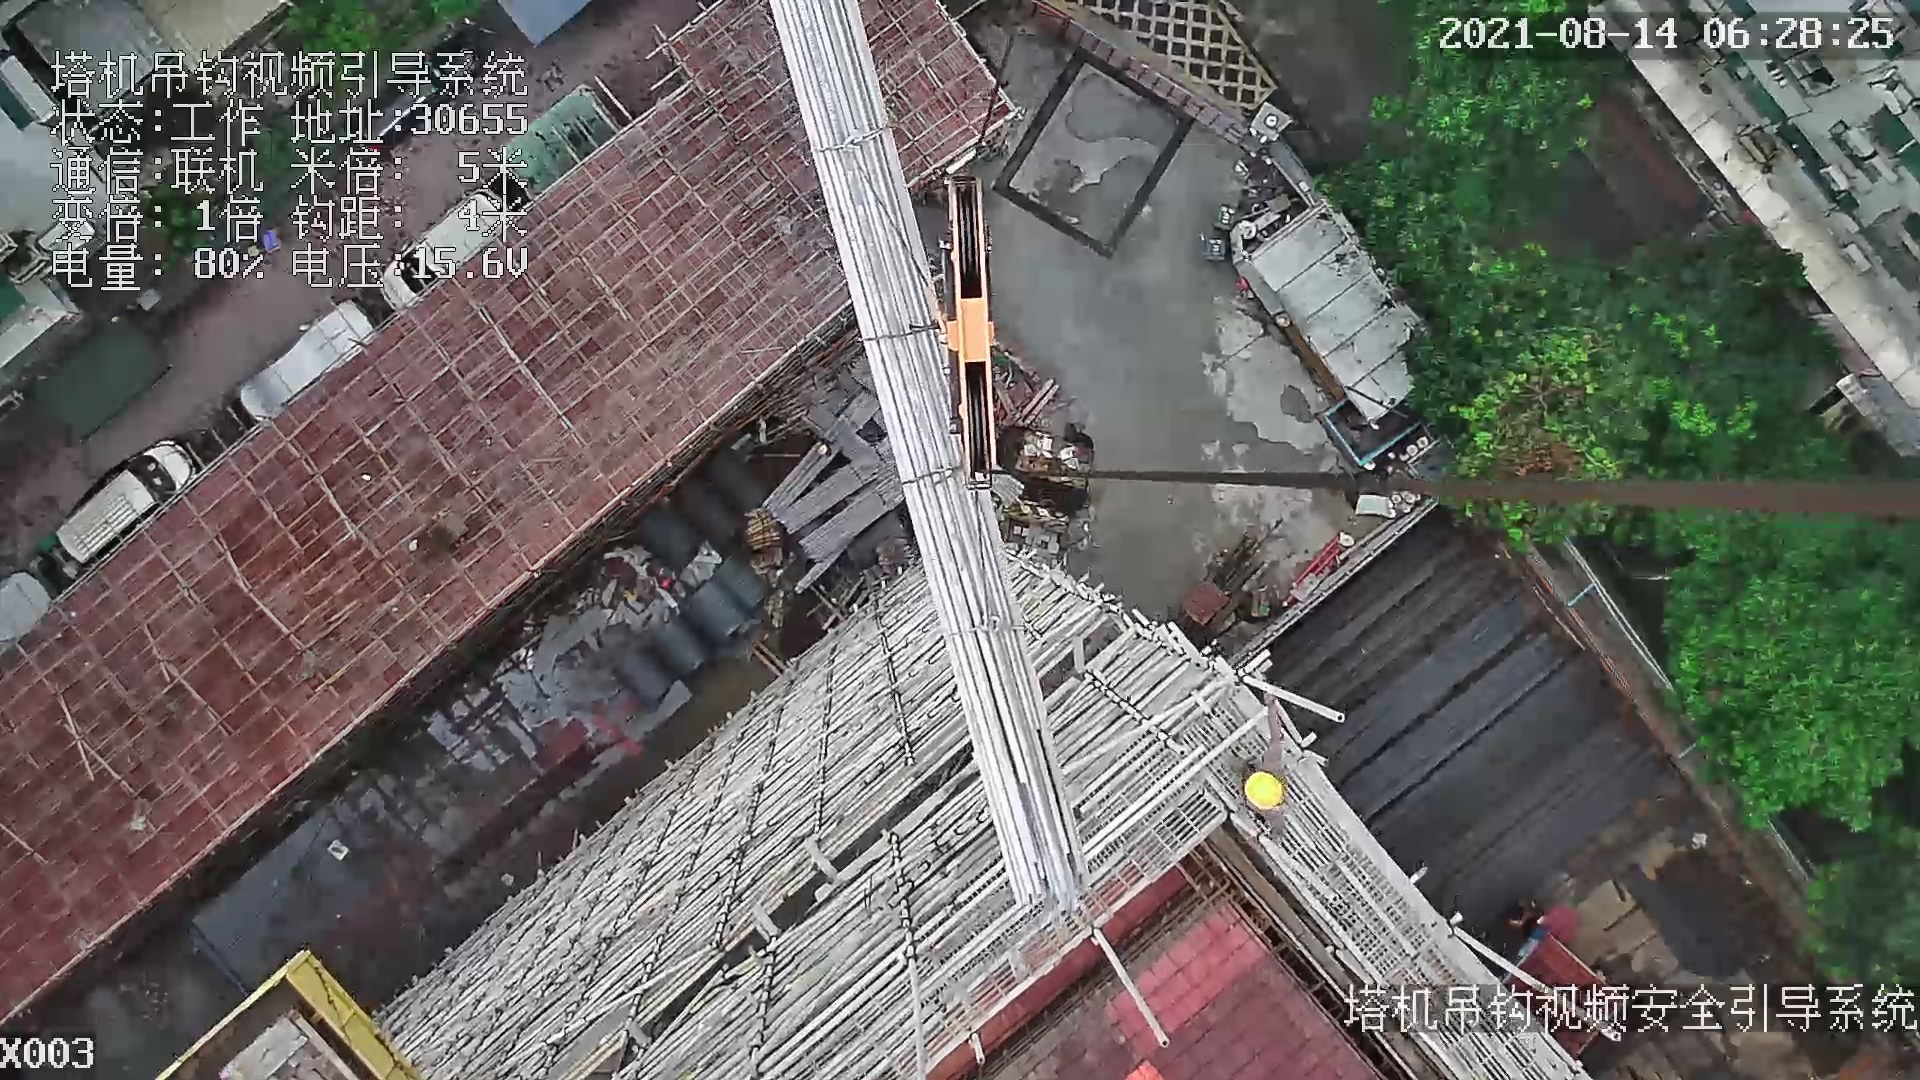helmet: (1233, 767, 1287, 812)
hook: (940, 175, 1000, 494)
person: (1228, 747, 1293, 838)
